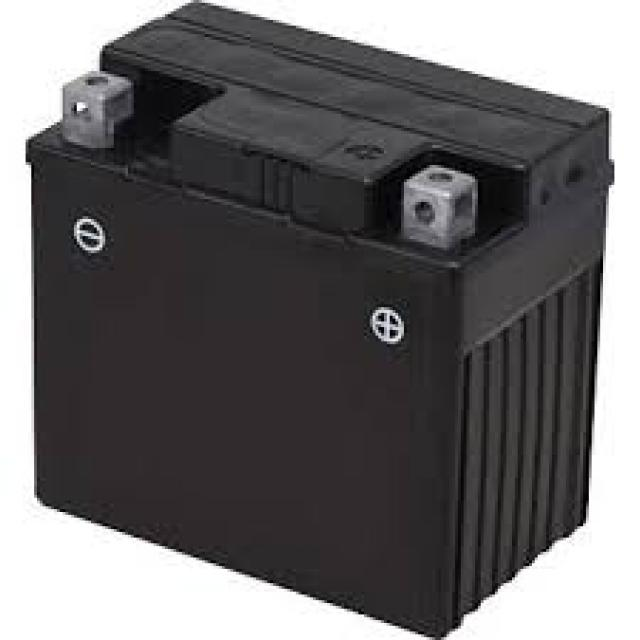non-organic waste: (25, 0, 612, 640)
